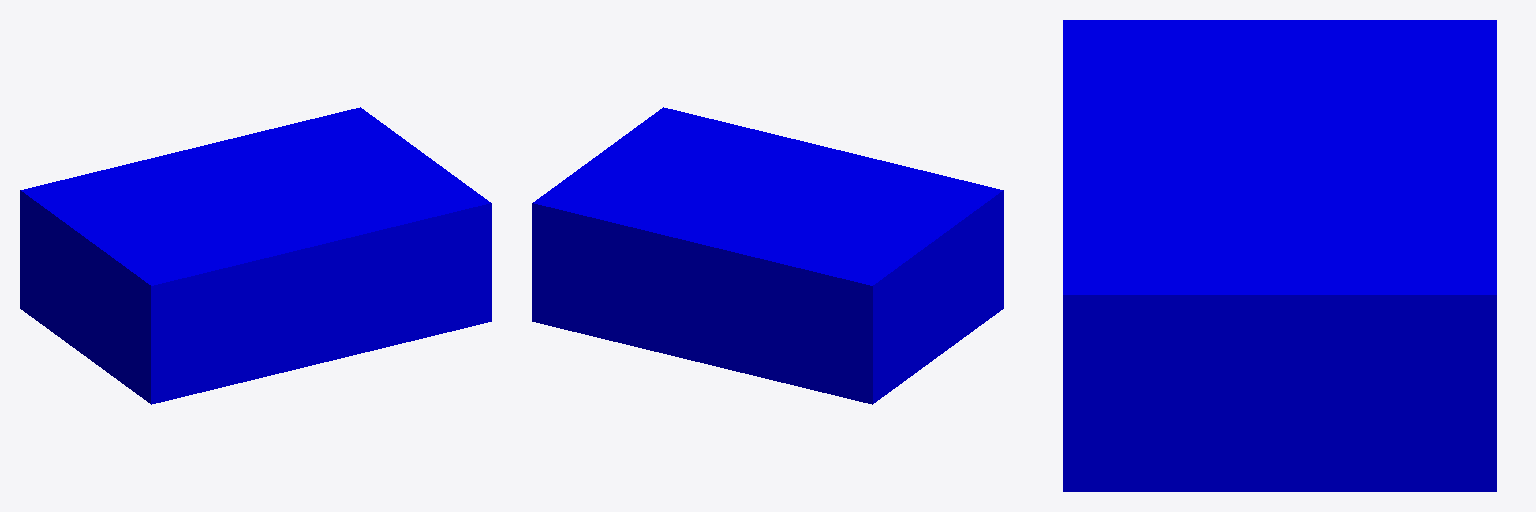
URDF robot description (z_drive_system):
<?xml version="1.0"?>
<!-- This file describes a simple Unified Robot Description Format (URDF) for the z_drive system -->
<!-- To see a simple interaction of it, start "roscore" and then run the command "roslaunch urdf_tutorial display.launch model:=z_drive.urdf gui:=true" -->
<!-- For more info on URDF tags see: http://wiki.ros.org/urdf/XML-->
<robot name="z_drive_system">
	<!-- link is esentialy a part/"rigid body" on the robot that can have a inertia and visual features. see: http://wiki.ros.org/urdf/XML/link -->
	<!-- base_link is esential the base of your robot, all positions of things are then based off of the base_link. Also note that base_link is needed for odom messages (map->odom->base_link). -->
	<link name="base_link">
		<visual>
			<!-- geometry is the shape of the visual object, and can be a box, cylinder, sphere, or mesh-->
			<geometry>
				<!-- box is defined with the properties of length, width, and hegiht (in that respective order).-->
				<box size="3 2 1" />
			</geometry>
			<material name="blue">
				<!-- The color of a material specified by set of four numbers representing red/green/blue/alpha, each in the range of [0,1]. -->
				<color rgba="0 0 1 .125"/>
			</material>
		</visual>
	</link>
	
	<!-- the z_drive_base will be instantiated from the base_link of the robot-->
	<link name="z_drive_base"/>
	
	<link name="port_thruster">
		<visual>
			<geometry>
				<box size=".5 .25 .25" />
			</geometry>
			<material name="red">
				<!-- port is red, and we want it semi transparent- hence an alpha value -->
				<color rgba="1.0 0 0 .5"/> 
			</material>
		</visual>
		<!-- colision is a SIMPLE model of the geometry of the link that is used in the calculation of the movement of the robot to make sure things don't hit. -->
		<collision>
			<geometry>
				<box size=".5 .25 .25" />
			</geometry>
		</collision>
	</link>
	
	<link name="port_prop">
		<visual>
			<!-- The prop sits at the end of a thruster's body so we ill need to offsetit. Also we will need to rotate the axis it's on by 90 degrees (pitch axis, pi/2 rad). -->
			<origin xyz="-.25 0 0" rpy="0 1.57079 0"/>
			<geometry>
				<cylinder length="0.1" radius="0.125" />
			</geometry>
			<!-- since the material red was already defined, we can reuse it here. -->
			<material name="red" />
		</visual>
	</link>
	
	<link name="starboard_thruster">
		<visual>
			<geometry>
				<box size=".5 .25 .25" />
			</geometry>
			<material name="green">
				<color rgba="0 1 0 .5"/> 
			</material>
		</visual>
		<collision>
			<geometry>
				<box size=".5 .25 .25" />
			</geometry>
		</collision>
	</link>
	
	<link name="starboard_prop">
		<visual>
			<origin xyz="-.25 0 0" rpy="0 1.57079 0"/>
			<geometry>
				<cylinder length="0.1" radius="0.125" />
			</geometry>
			<material name="green" />
		</visual>
	</link>
	
	<!-- joint is an element that connects links to describes the kinematics, dynamics, and safety limits about some movement. see: http://wiki.ros.org/urdf/XML/joint -->
	<!-- revolute is a type of joint that rotates around the axis and has a upper and a lower limits. Servos in joint mode are revolute joints, but if it is in wheel mode it is considered a "continuous" joint. -->
	<joint name="port_servo" type="revolute">
		<parent link="z_drive_base"/>
		<child link="port_thruster"/>
		<!--origin is the offset of the child element from the parent-->
		<!--port_servo is back .7239m, left of centerline .3048m, 0m above the water-->
		<origin xyz="-.7239 .3048 0" rpy="0 0 0" />
		<!-- axis is about which axis the joint state rotates. The axis specifies the rotational axis in the local frame. Since it only rotates in the xy plane, z is 1. -->
		<axis xyz="0 0 1" />
		<!-- limit specifies the properties of the joint that cant be exceeded -->
		<!-- since the servo is in joint mode/"revolute", it can rotate between 0 (lower limit) and 2*pi (uper limit) -->
		<!-- Since the servo will operate at 12v, this coresponds to a "no load" speed/"velocity" of 63rpm=6.597344565rad/s-->
		<!-- Since the servo will operate at 12v, this coresponds to a "Stall Torque"/"effort" of 6.0 Newton meters -->
		<limit lower="0" upper="6.283185" velocity="6.597344565" effort="6.0" />
	</joint>
	
	<!-- prismatic is a sliding joint that slides along the axis, and has a limited range specified by the upper and lower limits. this will represent the thrust of the motor. -->
	<joint name="port_thruster_to_prop" type="prismatic">
		<parent link="port_thruster"/>
		<child link="port_prop"/>
		<!--the prop is centered about the thruster, and will move in and out proportional to thrust -->
		<origin xyz="0 0 0" rpy="0 0 0" />
		<!-- since this represents thrust coming OUT of the motor it needs to be orianted about the -x axis -->
		<axis xyz="-1 0 0" />
		<!-- since this is a prismatic joint the units here are in meters, m/s, and newtons- where applicable. -->
		<limit lower="0" upper="1" velocity="1" effort="1" />
	</joint>
	
	<joint name="starboard_servo" type="revolute">
		<parent link="z_drive_base"/>
		<child link="starboard_thruster"/>
		<!--starboard_servo is back .7239m, right of center line .3048m, 0m above the water-->
		<origin xyz="-.7239 -.3048 0" rpy="0 0 0" />
		<axis xyz="0 0 1" />
		<limit lower="0" upper="6.283185" velocity="6.597344565" effort="6.0" />
	</joint>
	
	<joint name="starboard_thruster_to_prop" type="prismatic">
		<parent link="starboard_thruster"/>
		<child link="starboard_prop"/>
		<origin xyz="0 0 0" rpy="0 0 0" />
		<axis xyz="-1 0 0" />
		<limit lower="0" upper="1" velocity="1" effort="1" />
	</joint>
	
	<!-- A fixed joint is one where all degrees of freedom are locked, and it can't move; so it's not realy a joint but mearly a conection of two links-->
	<joint name="base_link_to_z_drive_base" type="fixed">
		<parent link="base_link"/>
		<child link="z_drive_base"/>
		<!-- Currently the z_drive_base is at the same origin as the base link -->
		<origin xyz="0 0 0"/>
	</joint>
	
</robot>

--- Facts derived from the render (not from the file) ---
Views: 3 orthographic renders of the robot side by side, from view 1: azimuth 30°, elevation 25°; view 2: azimuth 150°, elevation 25°; view 3: azimuth 270°, elevation 25°.
Model z_drive_system with 6 links and 5 joints (2 revolute, 2 prismatic, 1 fixed), rooted at base_link, posed every joint at zero.
Links seen in each view (by area): view 1: base_link; view 2: base_link; view 3: base_link.
Boxes of the visible links, x1,y1,x2,y2 form: base_link: (20,107,491,404); base_link: (532,107,1003,404); base_link: (1063,20,1496,491).
Bounding box of the posed robot: 3 × 2 × 1 m (x, y, z).
Geometry: primitives only (box / cylinder / sphere), no mesh files.